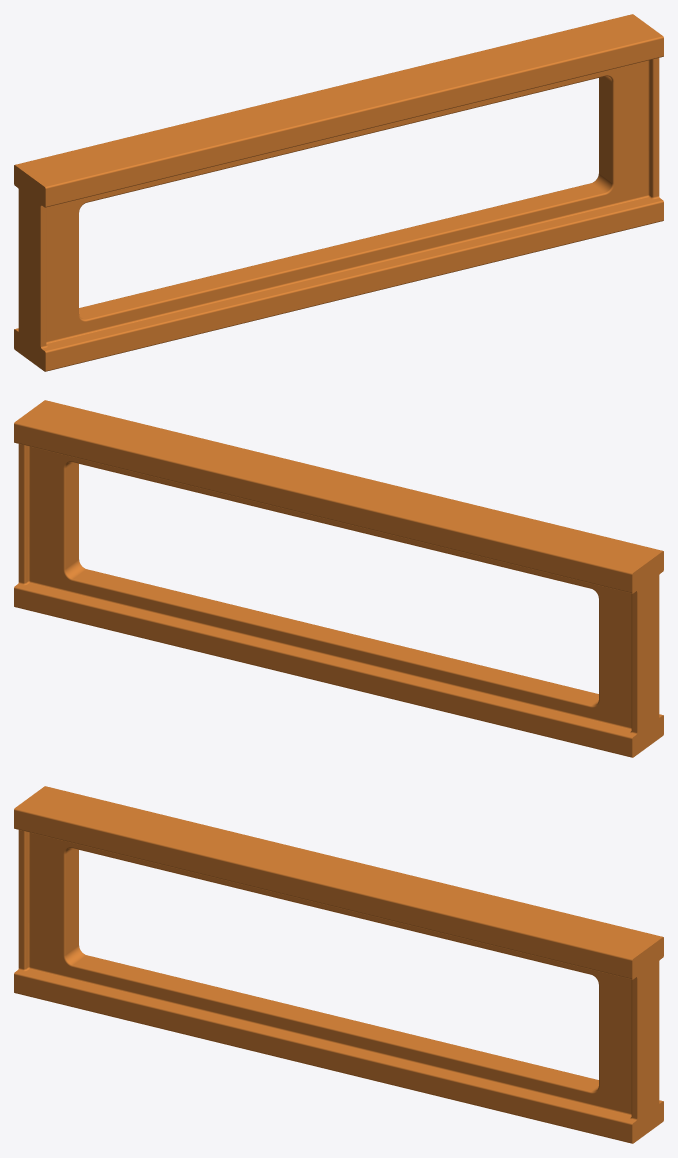
Rendered from structure_beam_center_b01.glb.
3 views of the same model, one above another, from view 1: azimuth 30°, elevation 25°; view 2: azimuth 150°, elevation 25°; view 3: azimuth 330°, elevation 25° (orthographic).
Size of the model in its own units: 2 by 0.5713 by 0.1774.
